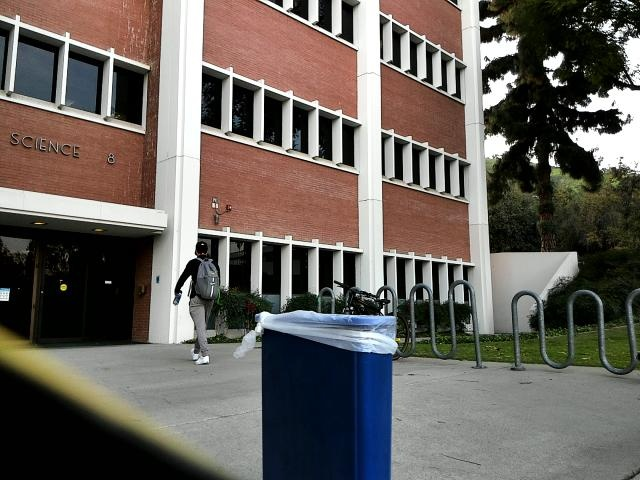trashcan_open: (235, 301, 408, 480)
